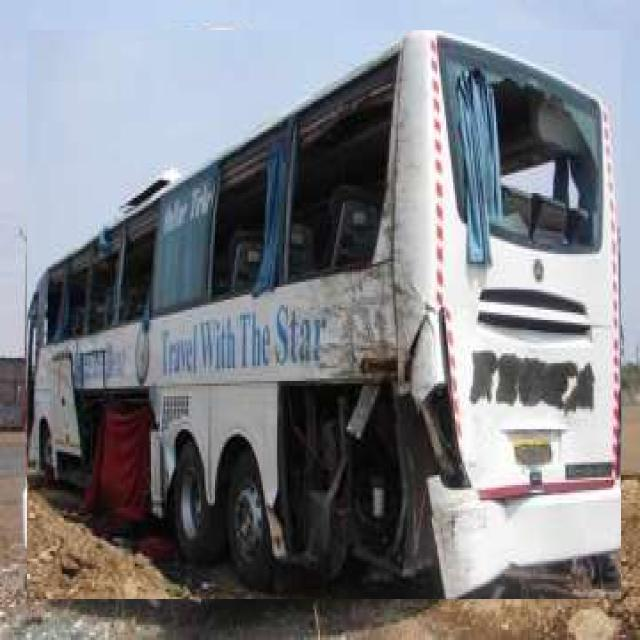accident: (27, 31, 620, 599)
